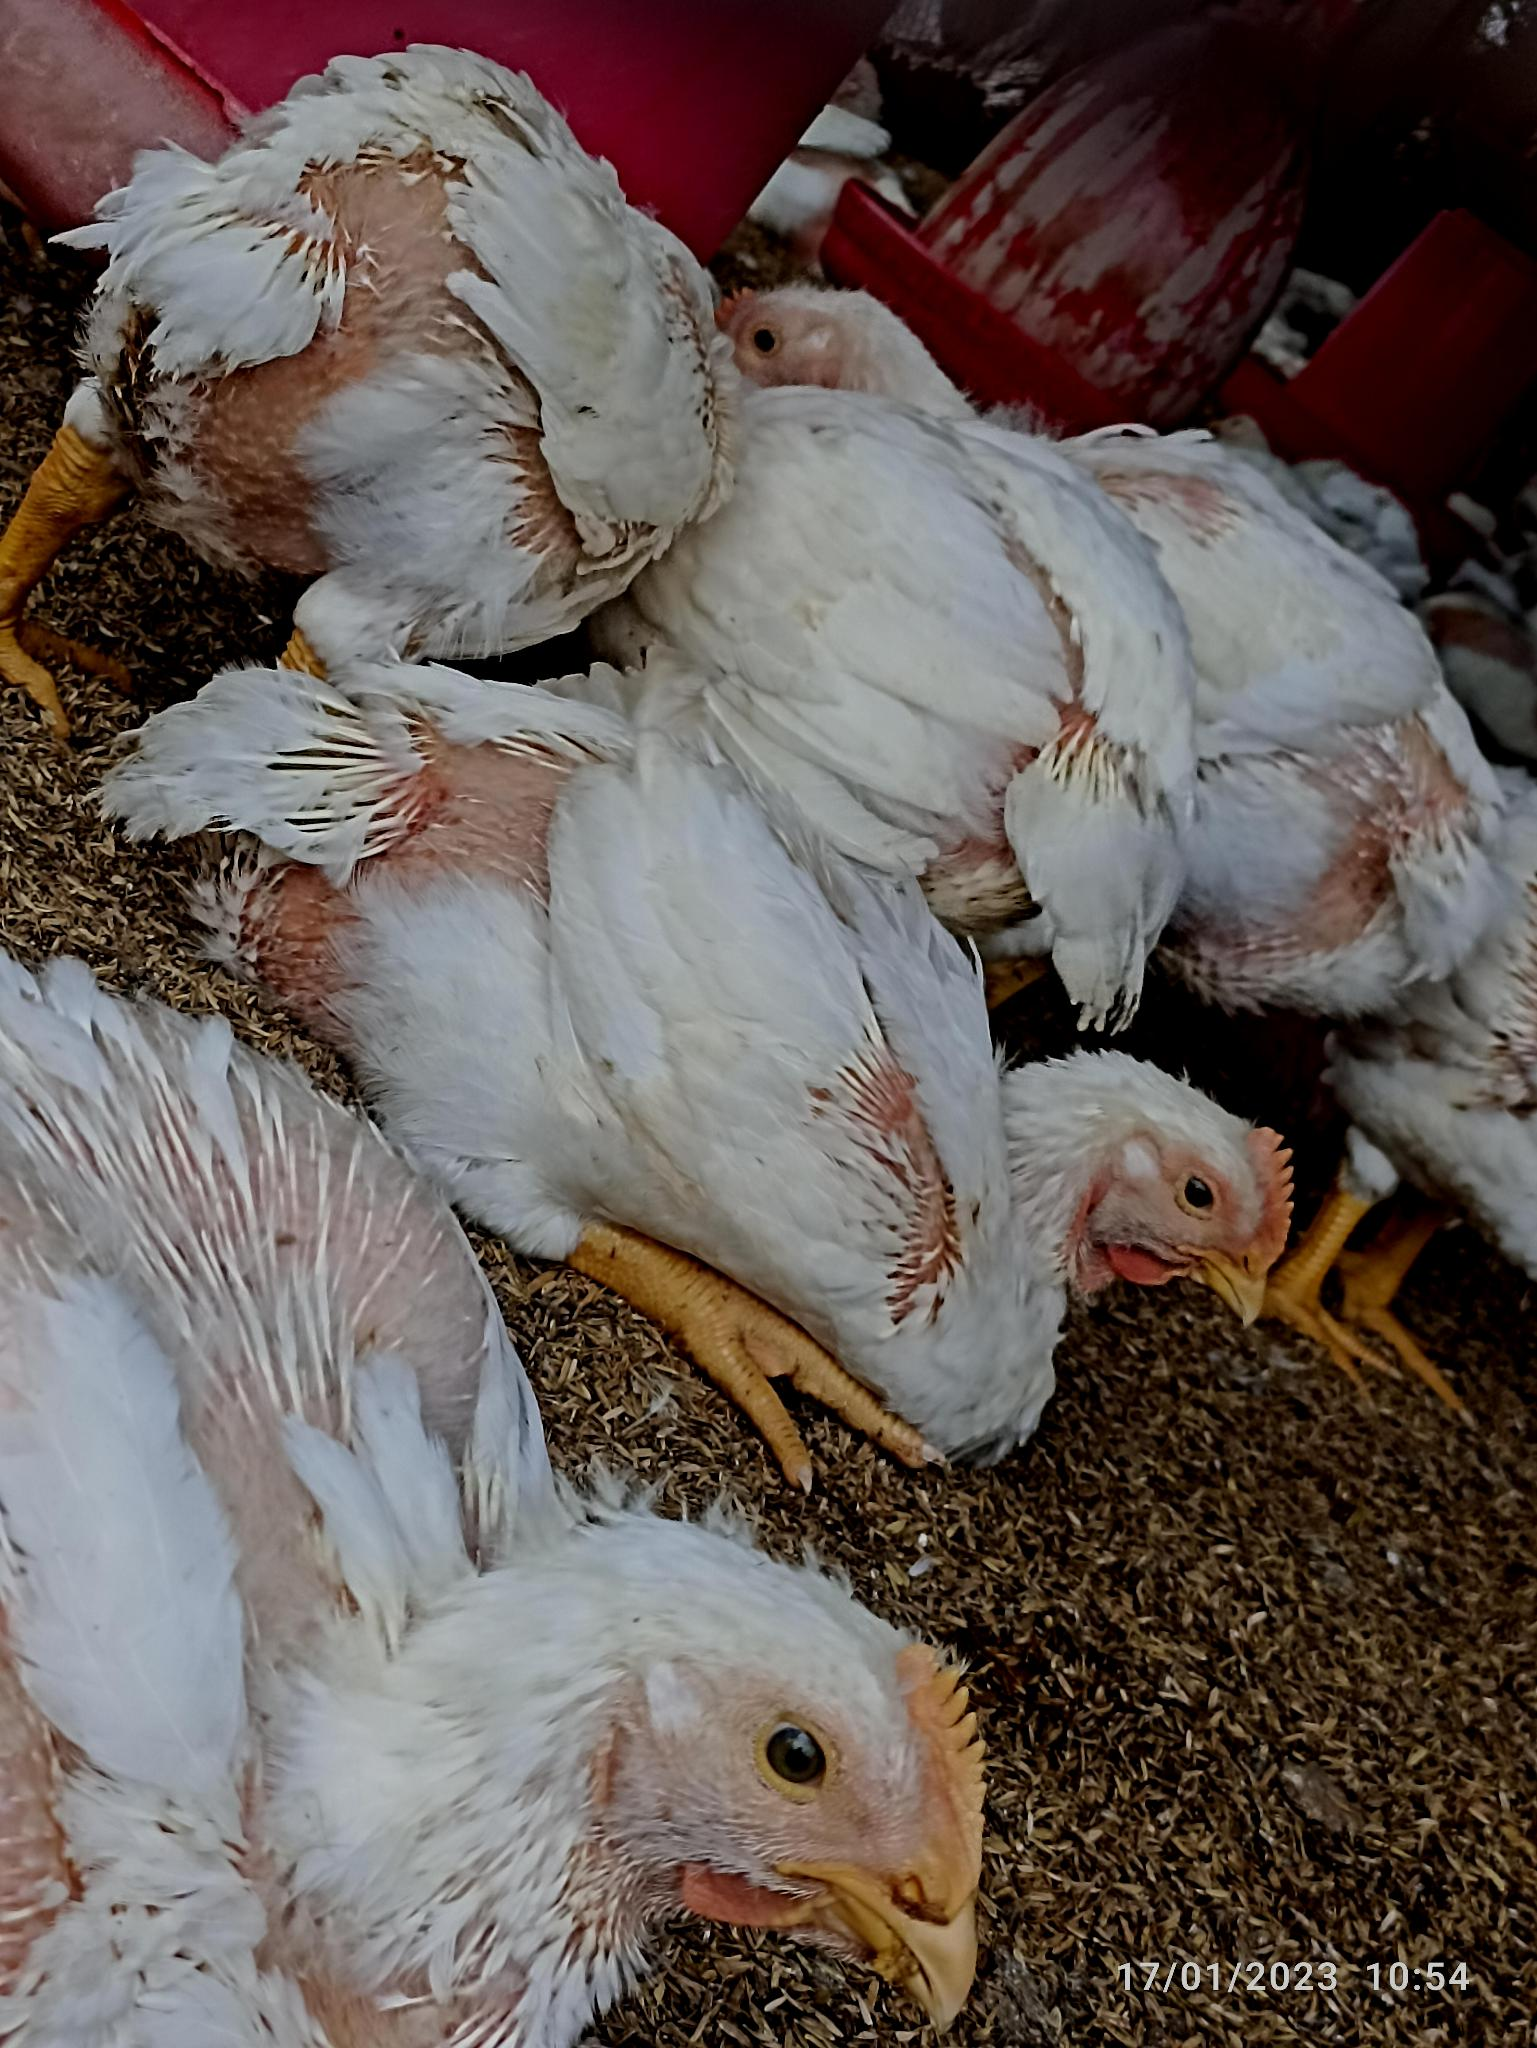Pollos: (220, 688, 1280, 1459), (32, 1473, 1012, 2035), (69, 39, 655, 657), (722, 252, 1430, 691)
